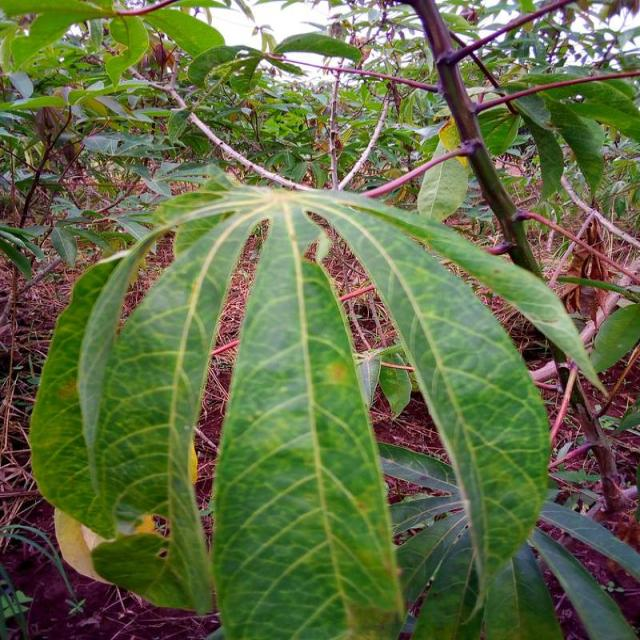cassava leaf: (32, 172, 602, 637), (209, 197, 406, 638)
